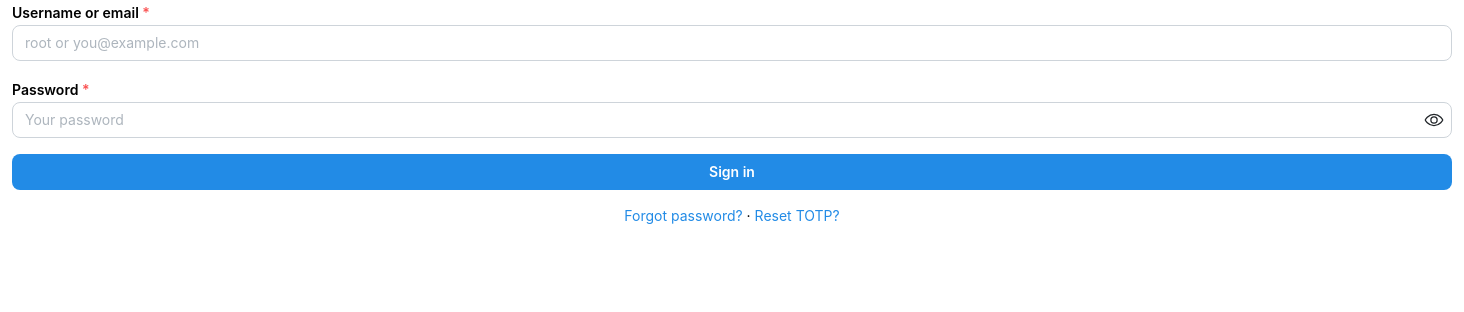
<LoginForm> › renders the daemon error envelope on 401
Type "alice@example.com" into the field with test id "email-input".
click(732, 43); type("alice@example.com")  # box [12, 25, 1452, 61]
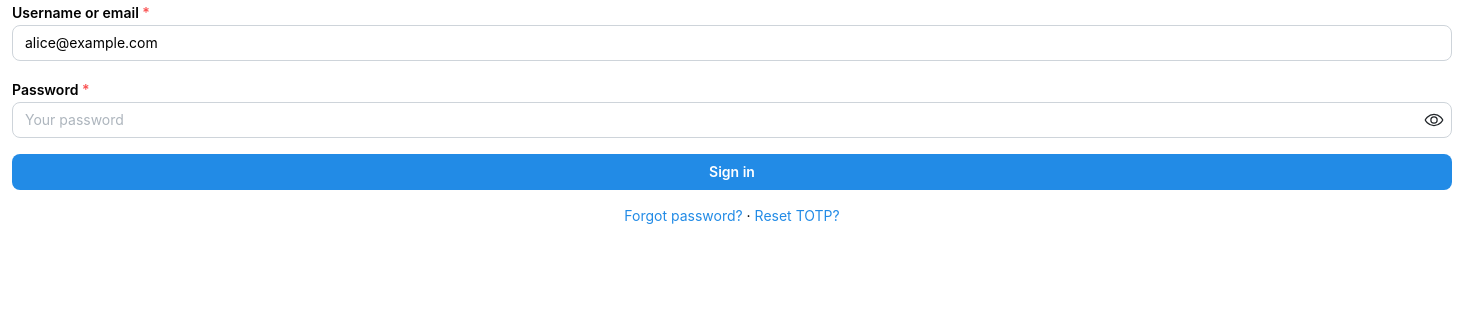
Type "wrong" into the password field with test id "password-input".
click(732, 120); type("wrong")  # box [13, 103, 1451, 137]
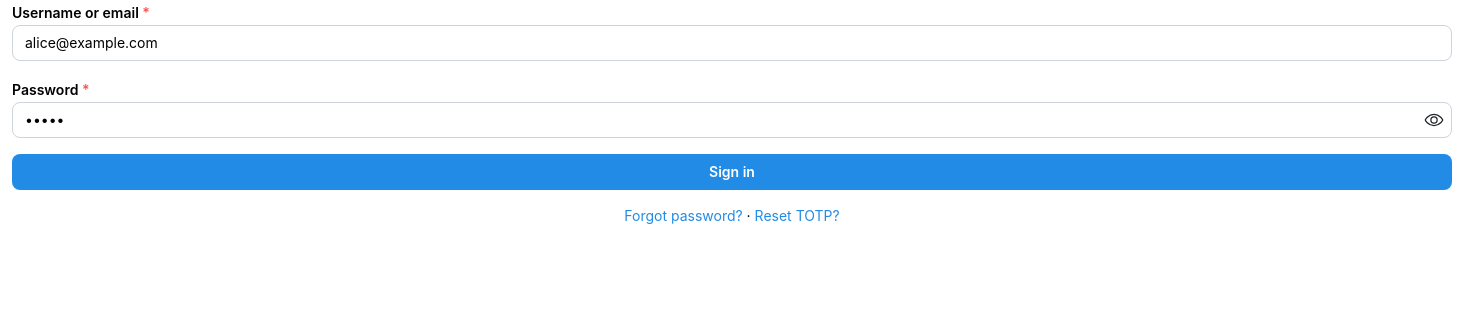
Click the button with test id "login-submit".
click(732, 172)  # box [12, 154, 1452, 190]
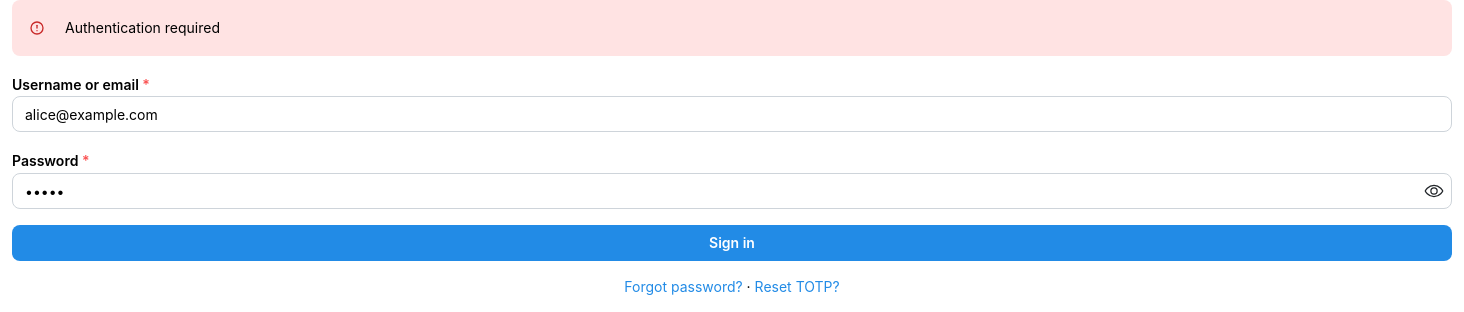
Expected: the message "Authentication required" is shown, [12, 0, 1452, 56]
